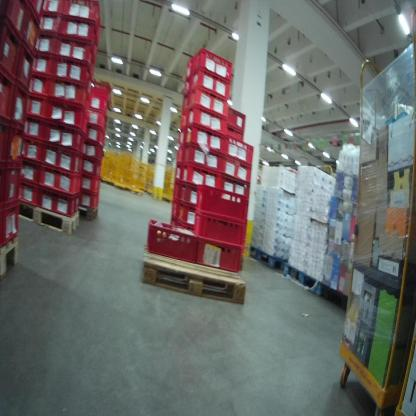pallet: (138, 240, 252, 304), (17, 201, 80, 235), (283, 262, 342, 295), (248, 244, 290, 274), (1, 234, 19, 281), (76, 205, 105, 218)
small_load_carrier: (144, 214, 198, 267), (196, 235, 253, 276), (193, 210, 249, 243), (185, 46, 231, 85), (201, 184, 247, 223), (3, 12, 25, 83), (39, 163, 78, 198), (1, 1, 31, 45), (39, 186, 78, 219), (183, 141, 223, 173), (185, 103, 227, 133), (189, 86, 229, 117), (223, 136, 258, 171), (47, 97, 83, 131), (51, 78, 87, 112), (43, 120, 82, 151), (54, 34, 93, 65), (189, 69, 229, 99), (185, 123, 225, 153), (181, 161, 221, 190), (7, 115, 27, 172), (1, 101, 17, 171), (57, 15, 96, 43), (14, 38, 33, 95), (54, 57, 93, 84), (23, 6, 42, 60), (42, 143, 79, 170), (1, 208, 25, 249), (1, 59, 15, 128), (3, 166, 26, 207), (222, 153, 254, 180), (64, 2, 100, 26), (77, 185, 105, 215), (12, 80, 28, 129), (84, 105, 109, 132), (24, 92, 48, 119), (24, 70, 52, 93), (219, 176, 251, 196), (21, 136, 42, 166), (30, 53, 54, 79), (16, 160, 41, 184), (180, 180, 203, 206), (223, 106, 246, 132), (77, 171, 103, 194), (17, 177, 39, 204), (81, 152, 103, 179), (21, 113, 44, 138), (177, 198, 199, 224), (85, 120, 105, 146), (86, 94, 110, 115), (35, 33, 57, 55), (29, 1, 48, 25), (223, 120, 246, 139), (90, 82, 112, 100), (41, 2, 64, 18), (86, 139, 102, 162), (182, 58, 193, 88), (40, 13, 57, 31), (168, 197, 178, 224), (176, 123, 185, 152), (176, 221, 195, 234), (175, 146, 186, 168), (179, 108, 189, 128), (171, 180, 181, 200), (181, 88, 189, 111), (182, 74, 189, 98), (173, 161, 181, 182)
